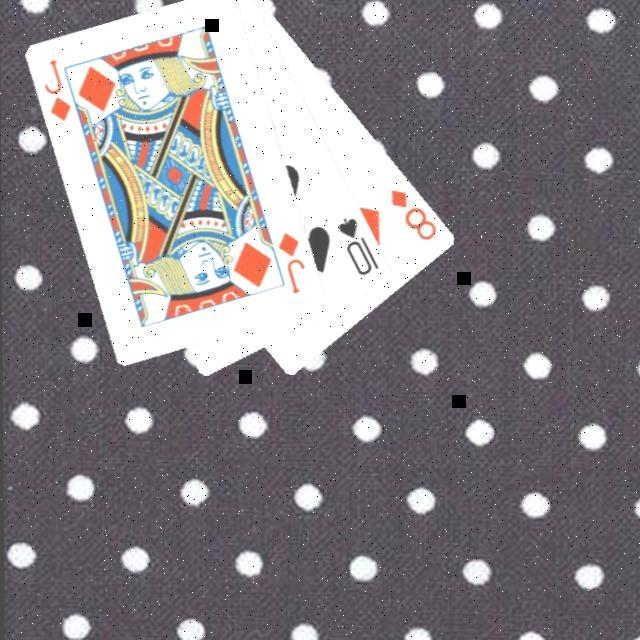10S: (333, 212, 381, 278)
8D: (386, 185, 440, 243)
JD: (40, 55, 74, 124), (274, 228, 308, 296)
